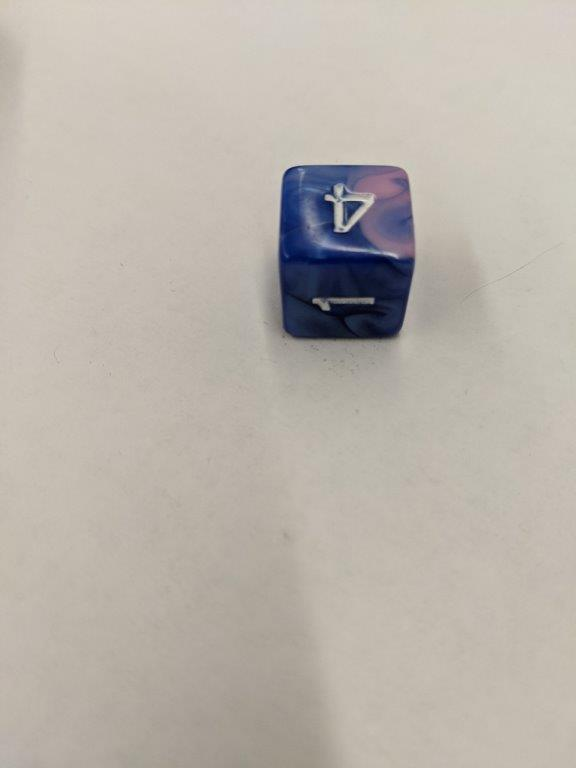d6-4: (279, 163, 415, 340)
